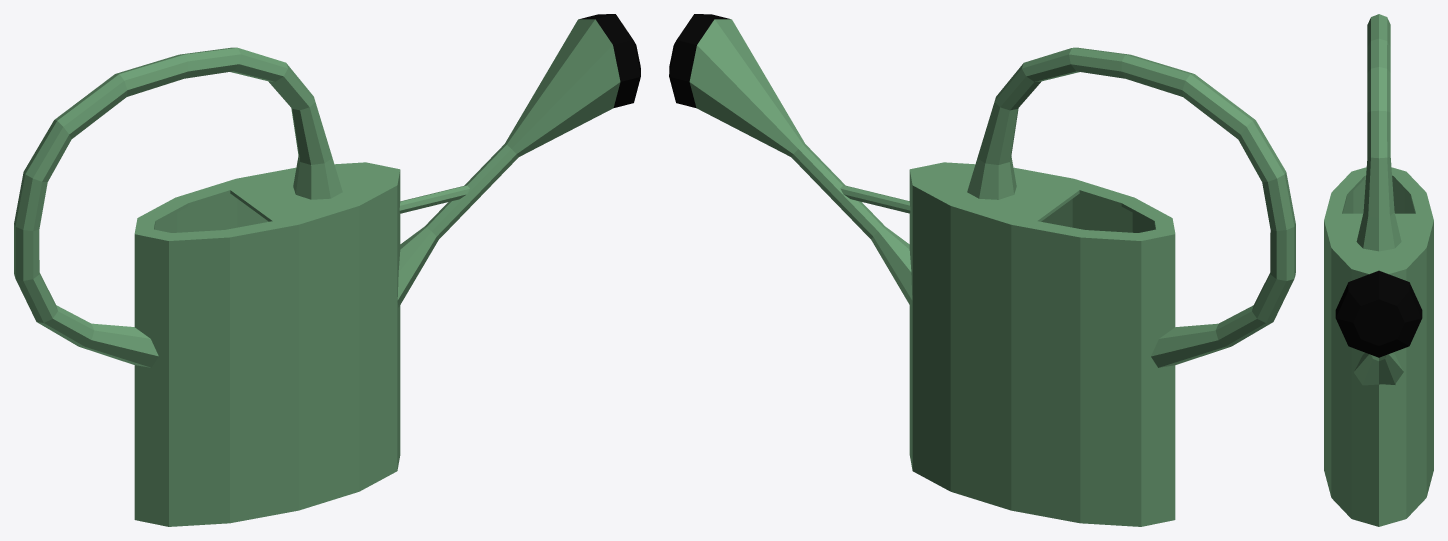
Rendered from mod_tool_waterCan.fbx.
3 views of the same model, side by side, from view 1: azimuth 30°, elevation 25°; view 2: azimuth 150°, elevation 25°; view 3: azimuth 270°, elevation 25° (orthographic). The views are drawn at different scales.
Parts seen in each view (by area): view 1: Cylinder; view 2: Cylinder; view 3: Cylinder.
Boxes of the visible parts, bbox=[...] form: Cylinder: bbox=[14, 14, 640, 526]; Cylinder: bbox=[669, 14, 1295, 526]; Cylinder: bbox=[1324, 14, 1433, 526].
Size of the model in its own units: 84.78 by 60.12 by 15.12.
